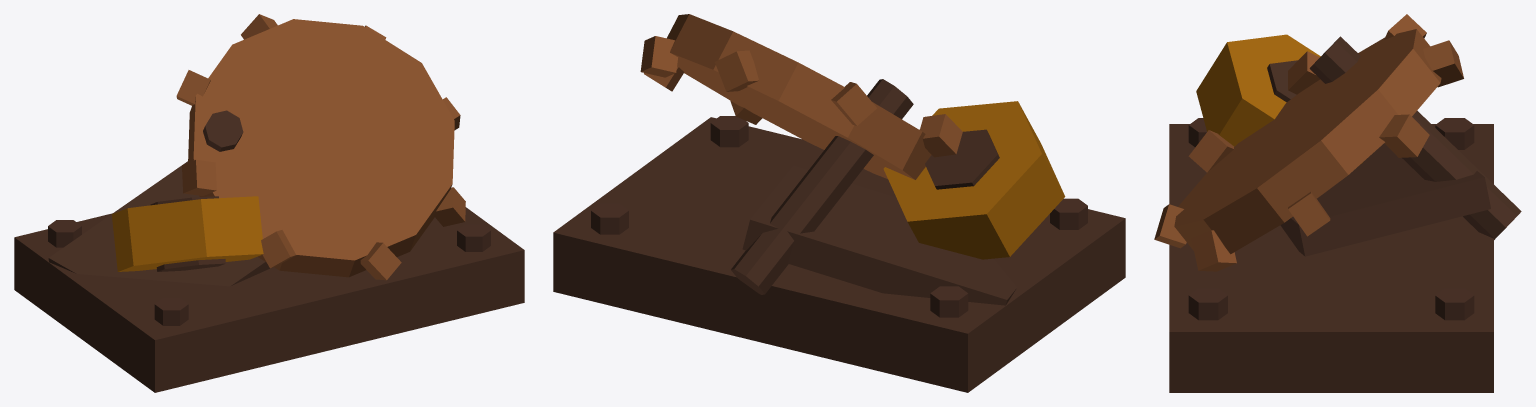
File: chatarra_oxidada.glb
3 renders of one model, left to right at view 1: azimuth 30°, elevation 25°; view 2: azimuth 150°, elevation 25°; view 3: azimuth 270°, elevation 25°, orthographic. The views are drawn at different scales.
Visible parts, largest first — view 1: Chatarra_Superior_Engranaje, Chatarra_Base, Chatarra_Superior_Tuerca, Chatarra_Base_Chapa, Chatarra_Superior_Eje, Chatarra_Superior_Diente_4, Chatarra_Superior_Diente_6, Chatarra_Superior_Diente_5, Chatarra_Remache_0, Chatarra_Remache_1, Chatarra_Superior_Diente_7, Chatarra_Superior_Hueco (+3 smaller); view 2: Chatarra_Base, Chatarra_Base_Chapa, Chatarra_Superior_Tuerca, Chatarra_Superior_Engranaje, Chatarra_Superior_Eje, Chatarra_Superior_Hueco, Chatarra_Superior_Diente_4, Chatarra_Superior_Diente_2, Chatarra_Superior_Diente_1, Chatarra_Superior_Diente_3, Chatarra_Remache_2, Chatarra_Remache_1 (+2 smaller); view 3: Chatarra_Base, Chatarra_Superior_Engranaje, Chatarra_Base_Chapa, Chatarra_Superior_Tuerca, Chatarra_Superior_Eje, Chatarra_Superior_Diente_1, Chatarra_Superior_Diente_7, Chatarra_Superior_Diente_2, Chatarra_Remache_3, Chatarra_Remache_1, Chatarra_Superior_Diente_5, Chatarra_Superior_Diente_0 (+6 smaller).
Part boxes in pixels (x1=…): Chatarra_Superior_Engranaje: x1=188, y1=19, x2=454, y2=277; Chatarra_Base: x1=14, y1=207, x2=524, y2=392; Chatarra_Superior_Tuerca: x1=111, y1=196, x2=263, y2=271; Chatarra_Base_Chapa: x1=48, y1=161, x2=269, y2=286; Chatarra_Superior_Eje: x1=203, y1=110, x2=243, y2=151; Chatarra_Superior_Diente_4: x1=182, y1=159, x2=216, y2=195; Chatarra_Superior_Diente_6: x1=360, y1=242, x2=401, y2=280; Chatarra_Superior_Diente_5: x1=261, y1=230, x2=295, y2=268; Chatarra_Remache_0: x1=154, y1=298, x2=188, y2=325; Chatarra_Remache_1: x1=457, y1=224, x2=490, y2=251; Chatarra_Superior_Diente_7: x1=434, y1=187, x2=465, y2=226; Chatarra_Superior_Hueco: x1=150, y1=196, x2=225, y2=271; Chatarra_Base: x1=553, y1=117, x2=1125, y2=392; Chatarra_Base_Chapa: x1=742, y1=165, x2=1016, y2=305; Chatarra_Superior_Tuerca: x1=883, y1=101, x2=1065, y2=259; Chatarra_Superior_Engranaje: x1=667, y1=14, x2=931, y2=179; Chatarra_Superior_Eje: x1=731, y1=79, x2=913, y2=294; Chatarra_Superior_Hueco: x1=925, y1=129, x2=999, y2=189; Chatarra_Superior_Diente_4: x1=920, y1=114, x2=962, y2=157; Chatarra_Superior_Diente_2: x1=715, y1=50, x2=758, y2=91; Chatarra_Superior_Diente_1: x1=640, y1=36, x2=677, y2=77; Chatarra_Superior_Diente_3: x1=831, y1=82, x2=876, y2=125; Chatarra_Remache_2: x1=930, y1=286, x2=968, y2=317; Chatarra_Remache_1: x1=710, y1=116, x2=748, y2=147; Chatarra_Base: x1=1169, y1=124, x2=1493, y2=392; Chatarra_Superior_Engranaje: x1=1174, y1=29, x2=1441, y2=254; Chatarra_Base_Chapa: x1=1280, y1=143, x2=1490, y2=256; Chatarra_Superior_Tuerca: x1=1196, y1=34, x2=1362, y2=163; Chatarra_Superior_Eje: x1=1309, y1=36, x2=1521, y2=239; Chatarra_Superior_Diente_1: x1=1379, y1=114, x2=1429, y2=157; Chatarra_Superior_Diente_7: x1=1191, y1=230, x2=1236, y2=271; Chatarra_Superior_Diente_2: x1=1423, y1=40, x2=1463, y2=87; Chatarra_Remache_3: x1=1435, y1=288, x2=1474, y2=320; Chatarra_Remache_1: x1=1188, y1=288, x2=1227, y2=320; Chatarra_Superior_Diente_5: x1=1188, y1=130, x2=1233, y2=172; Chatarra_Superior_Diente_0: x1=1288, y1=192, x2=1330, y2=236.
Size of the model in its own units: 0.8808 by 0.5394 by 0.6564.
